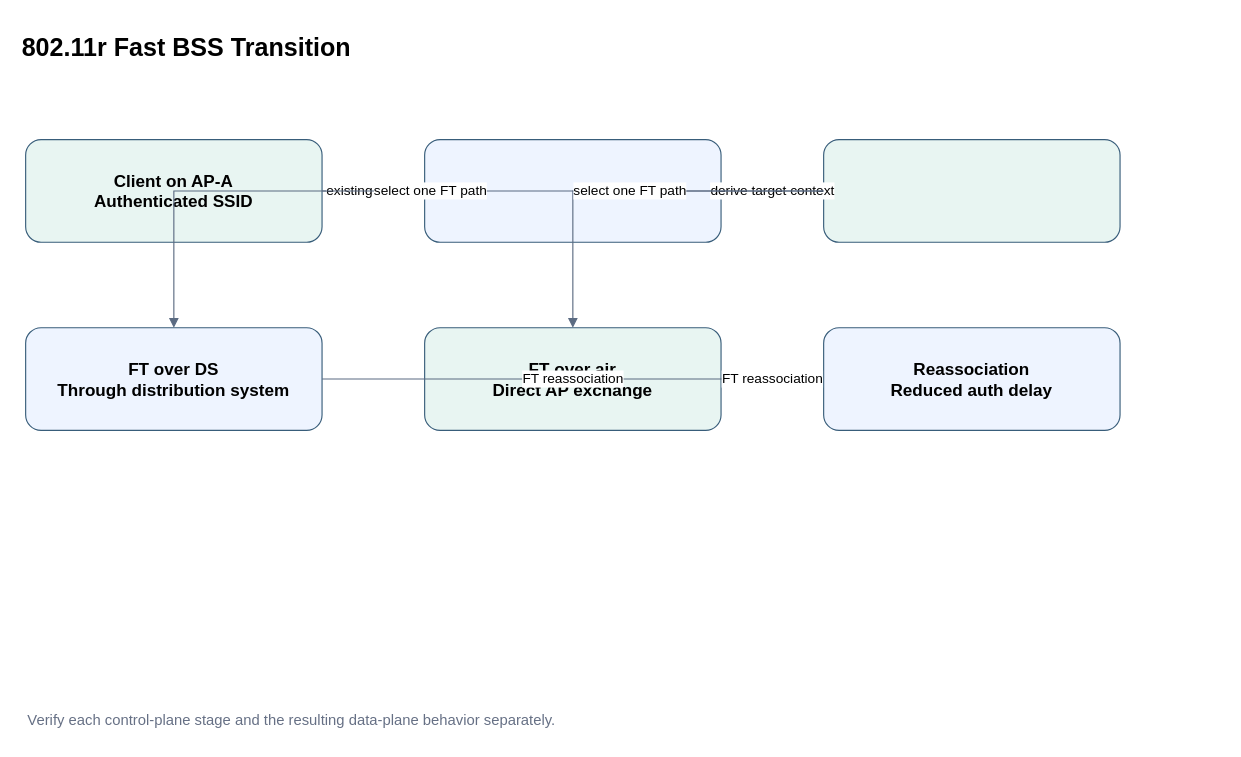
Some shapes in this 1241 by 757 pixel diagram are drawn without their labels. Here are the shapes that lost their labels. From the top down, the centre of each, then its label:
(x=572, y=190): Mobility domain PMK-R0 lifetime
(x=971, y=190): Target AP-B FT key context
